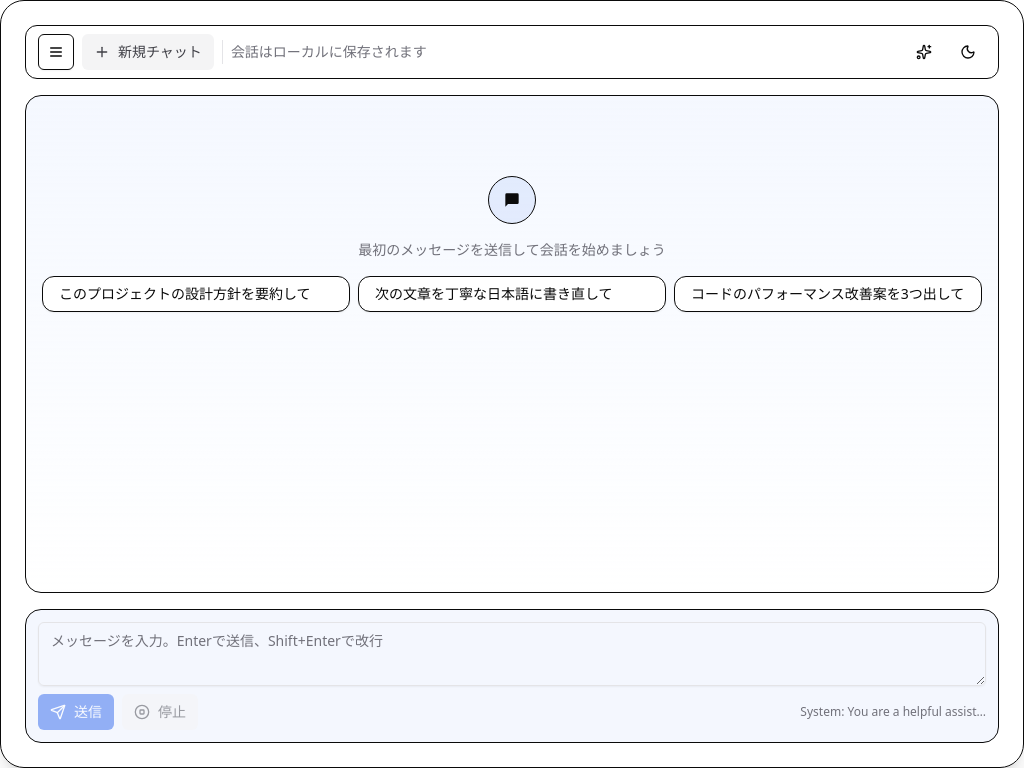
Scenario: Chat i18n › Japanese locale › displays conversations title in Japanese
The image size is (1024, 768).
Click the button named "会話一覧": (56, 52) left=38, top=34, right=74, bottom=70
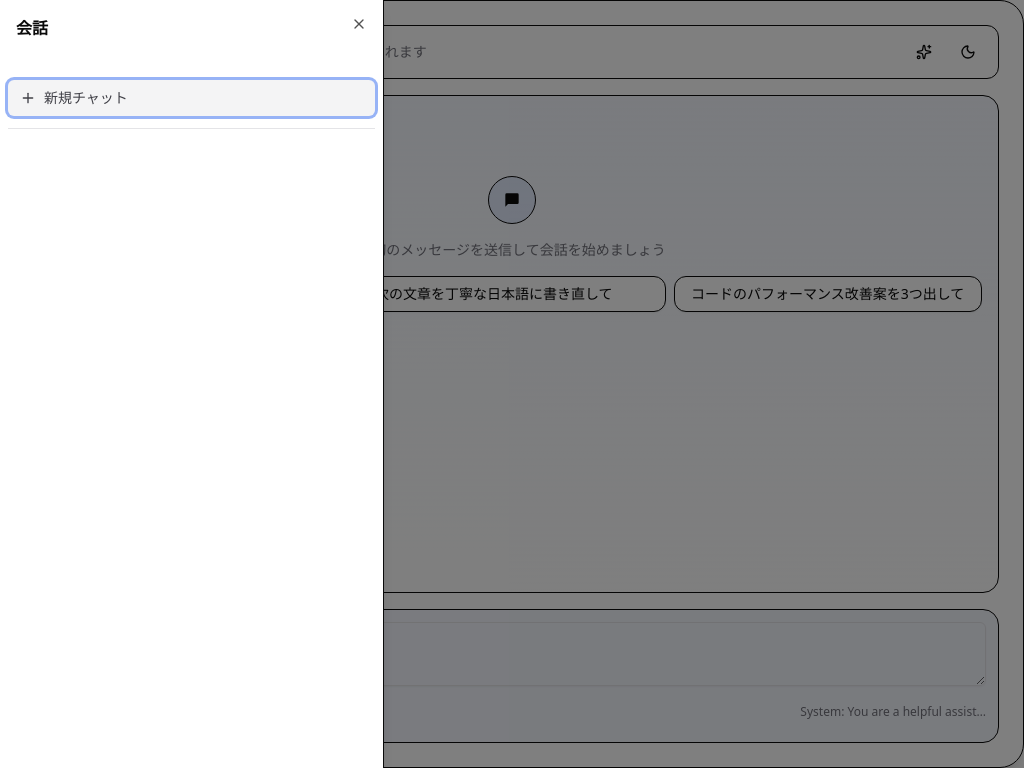
Result: the heading "会話" is shown at left=16, top=17, right=48, bottom=39
